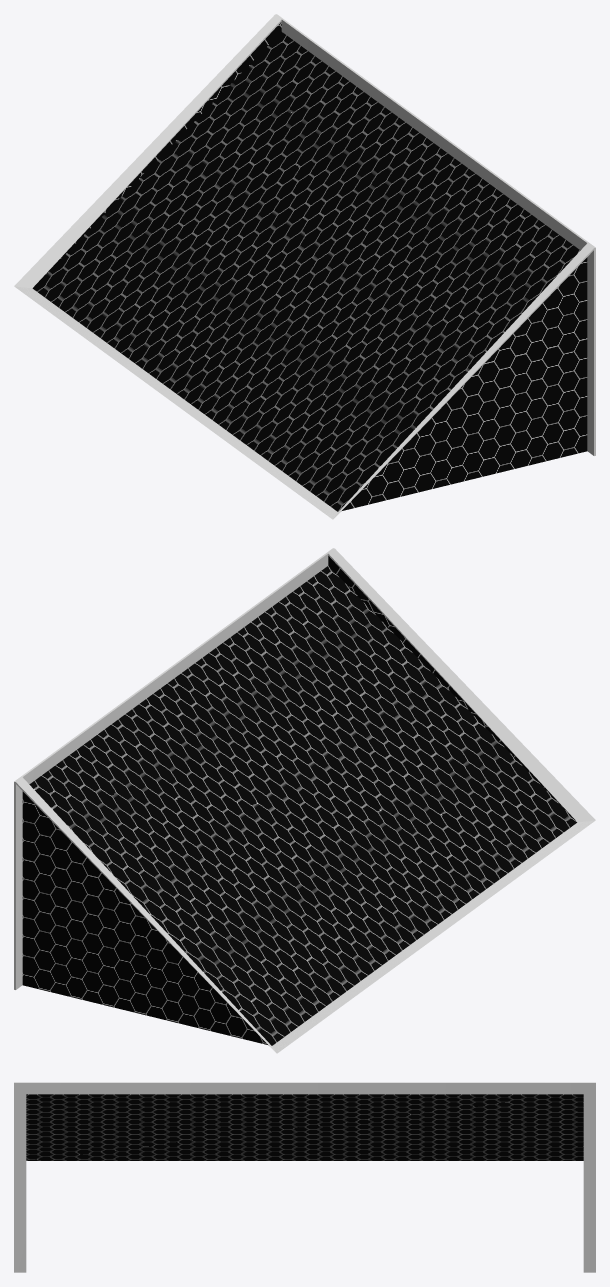
File: foot ball ground.fbx
3 views of the same model, one above another, from view 1: azimuth 30°, elevation 25°; view 2: azimuth 150°, elevation 25°; view 3: azimuth 270°, elevation 25° (orthographic). The views are drawn at different scales.
Visible parts, largest first — view 1: gola; view 2: gola; view 3: gola.
Part boxes in pixels (x1=…): gola: x1=14, y1=14, x2=595, y2=519; gola: x1=14, y1=548, x2=595, y2=1053; gola: x1=14, y1=1082, x2=595, y2=1272.
Size of what is drawn, in the model's own units: 371 by 281 by 780.
